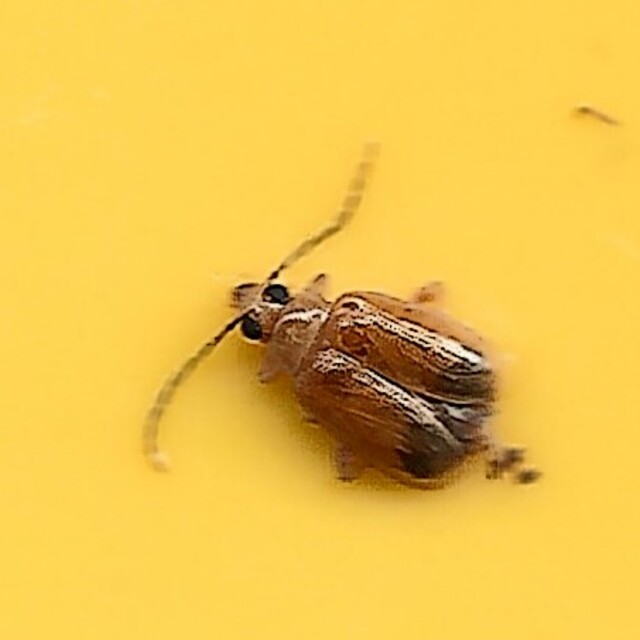Coleoptera: (141, 146, 499, 494)
